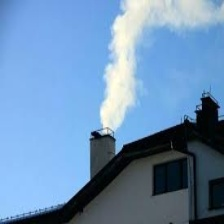smoke: (91, 1, 166, 132)
